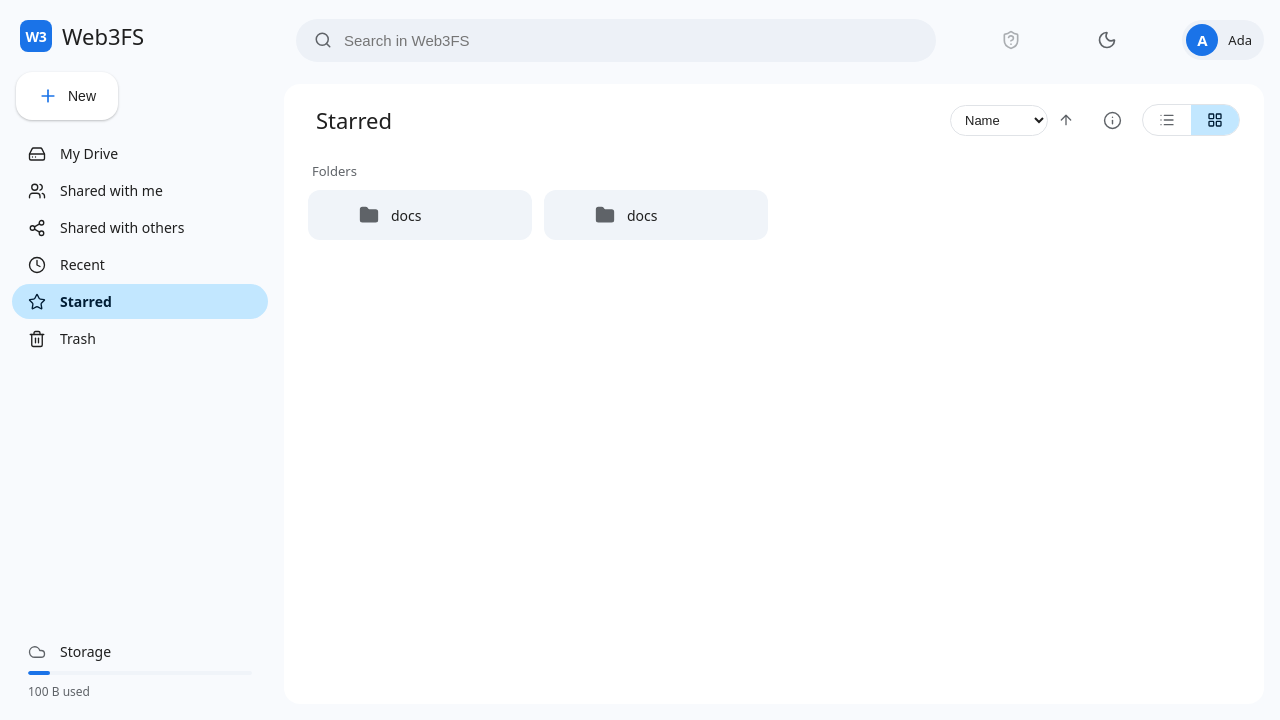
it: folders that share a name in a flat view › both folders render as distinct rows in list view
Click the button titled "list view". click: (1167, 120)
box: [1143,105,1191,135]
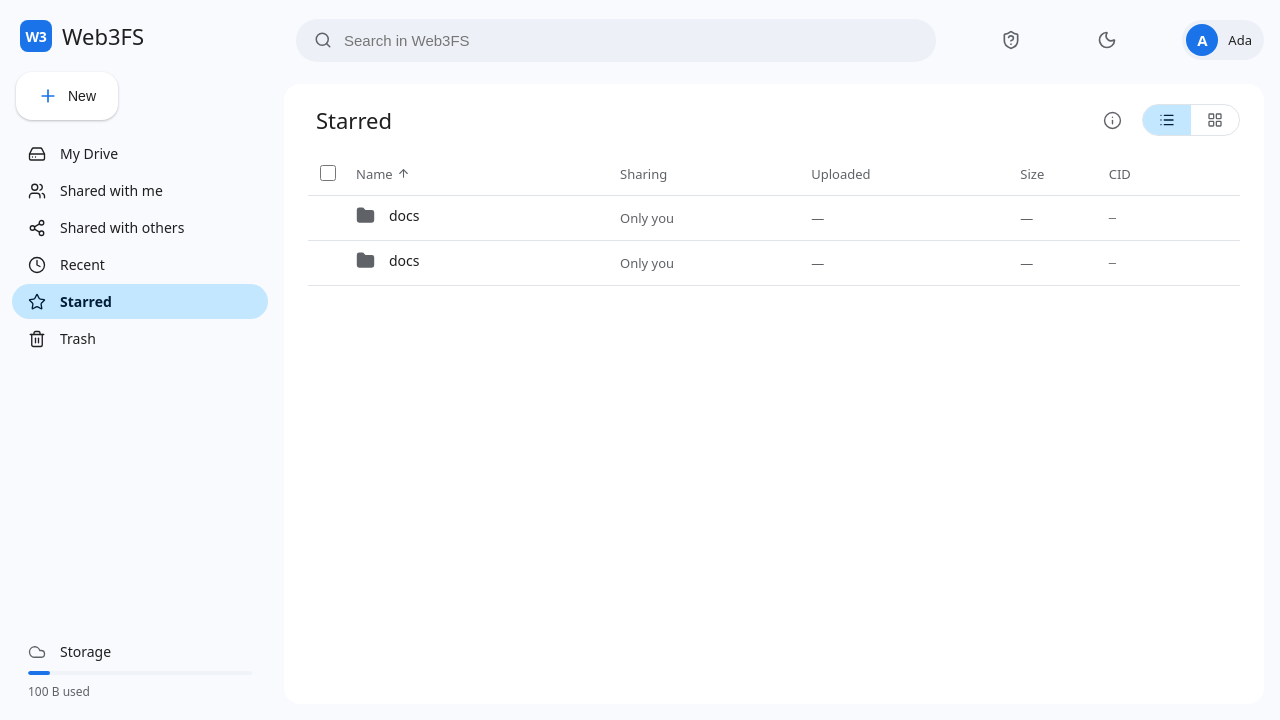
Now the 1st row "docs Only you — — —" is shown, box [308,196,1240,240]
Now the 2nd row "docs Only you — — —" is shown, box [308,240,1240,286]
